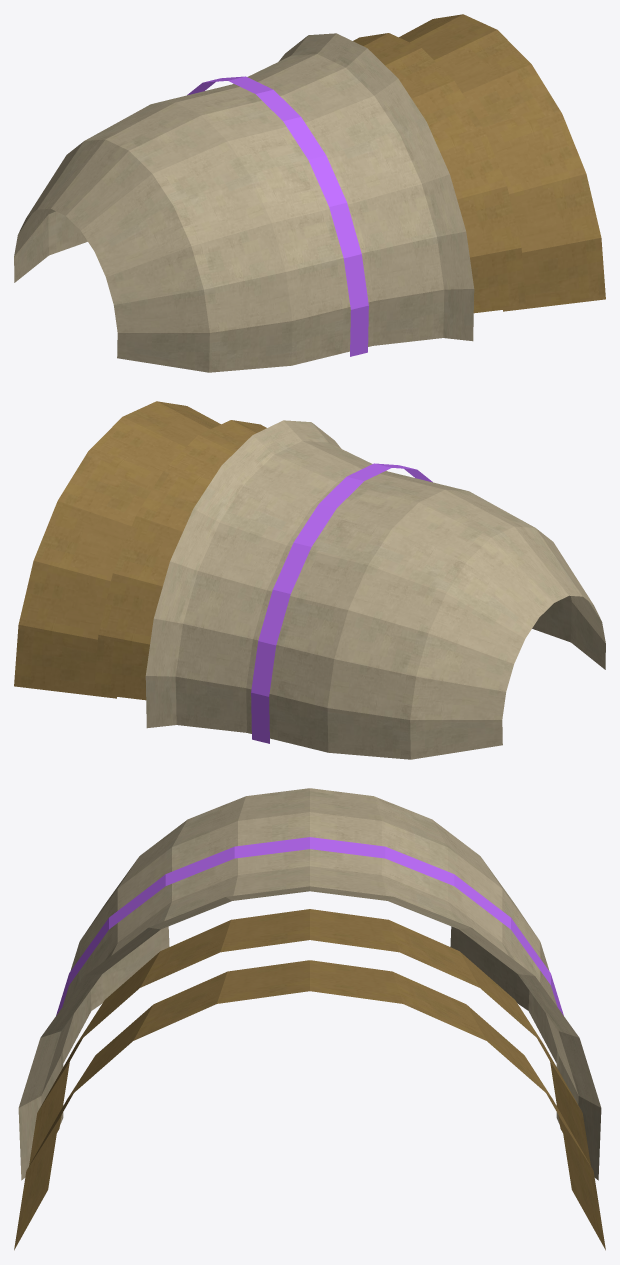
The model's file is eq_future_3_shoulder.glb.
3 renders of one model, top to bottom at view 1: azimuth 30°, elevation 25°; view 2: azimuth 150°, elevation 25°; view 3: azimuth 270°, elevation 25°, orthographic. The views are drawn at different scales.
Parts seen in each view (by area): view 1: eq_future_3_shoulder; view 2: eq_future_3_shoulder; view 3: eq_future_3_shoulder.
Boxes of the visible parts, bbox=[...] form: eq_future_3_shoulder: bbox=[14, 14, 605, 372]; eq_future_3_shoulder: bbox=[14, 401, 605, 759]; eq_future_3_shoulder: bbox=[14, 788, 605, 1250].
Bounding box in the file's own units: 0.2581 × 0.1232 × 0.2245.
3 materials, 3 textured.
